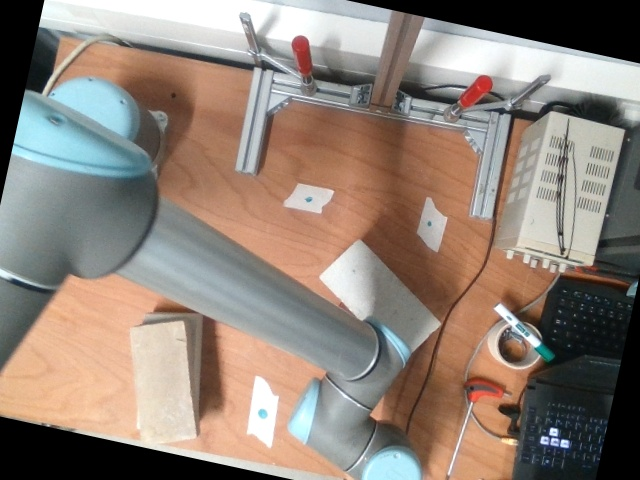brick: (130, 321, 197, 447)
